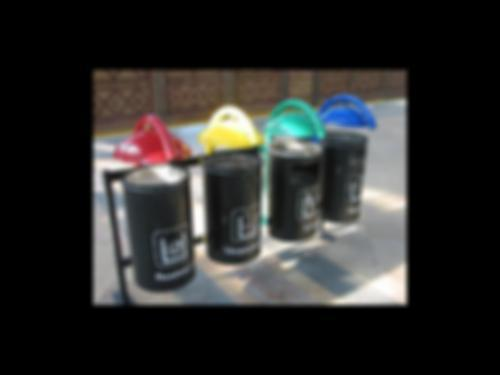Bote de Basura: (126, 160, 195, 293), (201, 155, 262, 265), (264, 141, 319, 246), (318, 131, 366, 224)
